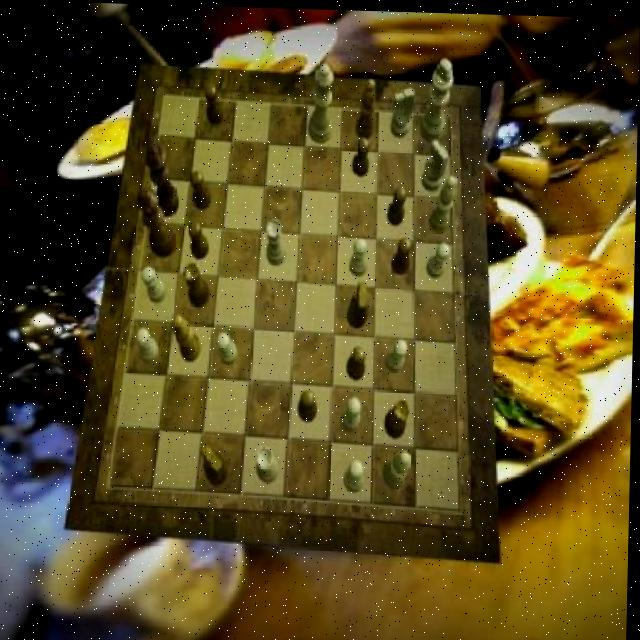bishop: (174, 314, 204, 360), (356, 77, 377, 138)
black-bishop: (145, 137, 181, 217)
black-king: (202, 443, 230, 485), (348, 279, 370, 327)
black-knight: (190, 171, 213, 210), (204, 83, 224, 125), (392, 235, 413, 272), (190, 220, 210, 258), (354, 134, 372, 175), (389, 184, 407, 223), (299, 387, 319, 422), (349, 344, 367, 378)
black-pawn: (137, 186, 178, 256)
black-queen: (185, 260, 213, 306), (386, 397, 411, 437)
black-rook: (430, 173, 458, 231), (385, 448, 414, 486)
white-bishop: (421, 56, 455, 141)
white-king: (421, 138, 449, 191), (392, 86, 416, 138)
white-knight: (143, 265, 169, 303), (138, 328, 162, 364), (428, 240, 451, 276), (218, 331, 242, 365), (386, 337, 409, 371), (345, 457, 367, 492), (344, 396, 364, 431), (351, 236, 369, 274)
white-pawn: (310, 61, 336, 142)
white-queen: (266, 219, 288, 265), (258, 445, 281, 483)
